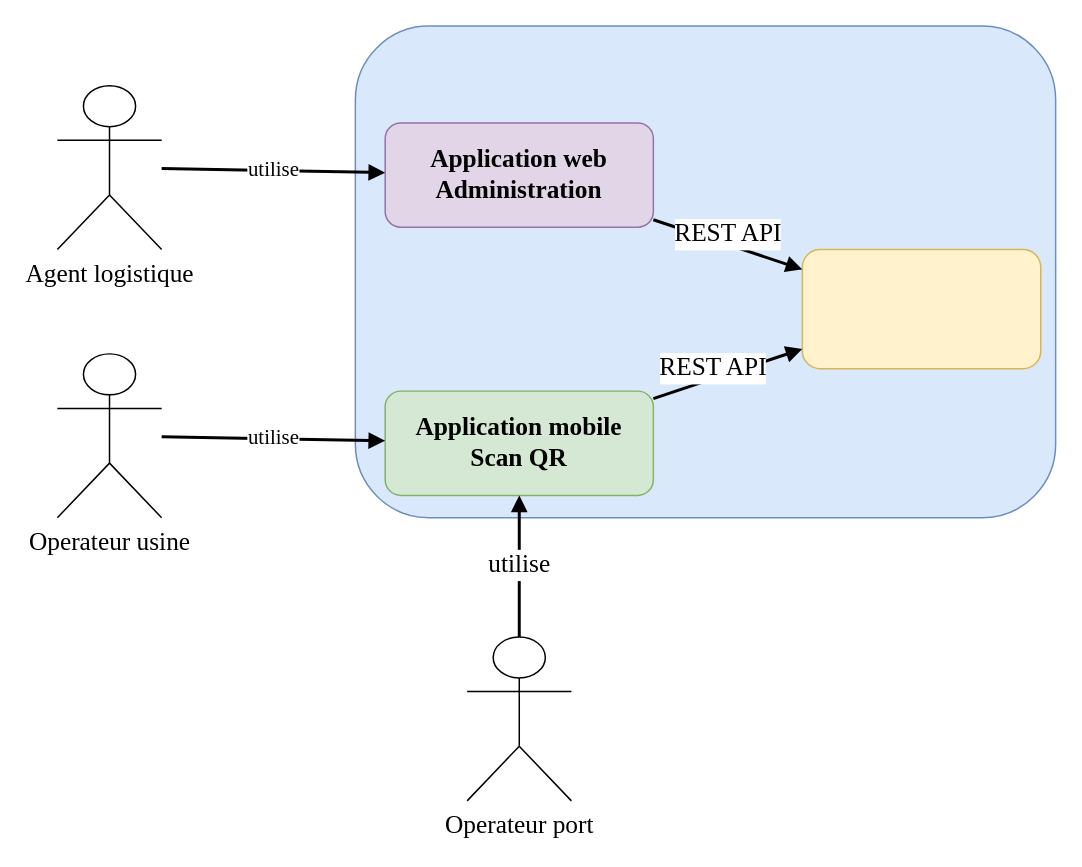
Some shapes in this 1082 by 867 pixel diagram are drawn without their labels. Here are the shapes that lost their labels. From the top down, the box of each, then its label:
(354, 25, 1056, 518): SomaScan
(801, 248, 1041, 369): Backend API Laravel
